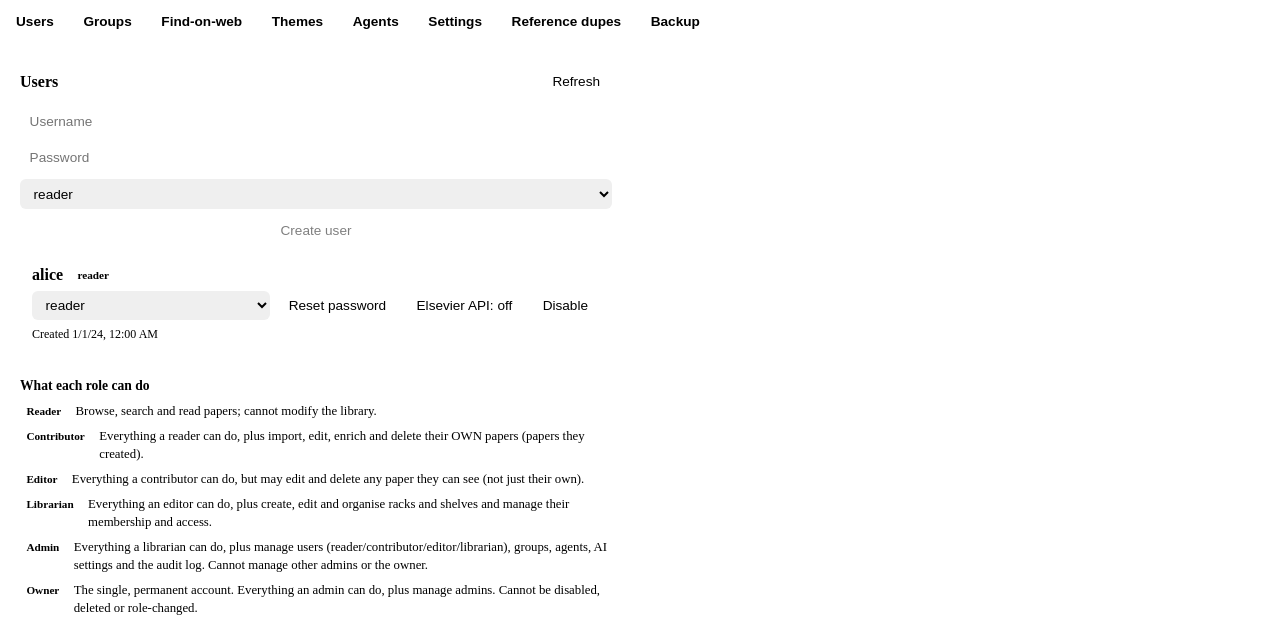
Test: AdminPage groups section › renders the Groups & access section and lists groups for an admin
This screenshot has width=1269, height=632.
Click the button "Groups" at (108, 22), box x1=71 y1=8 x2=144 y2=36
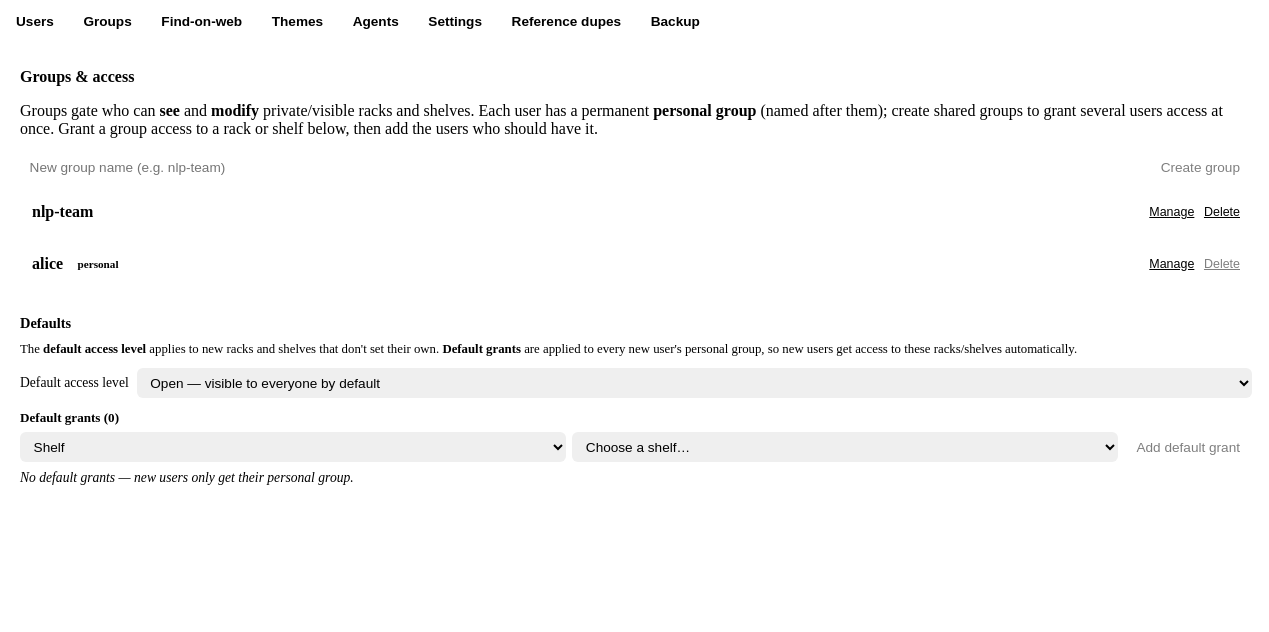
Expected: the heading "Groups & access" is shown, x1=20 y1=68 x2=134 y2=85
Expected: the text "nlp-team" is shown, x1=32 y1=203 x2=93 y2=221
Expected: the text "personal" is shown, x1=78 y1=258 x2=118 y2=270
